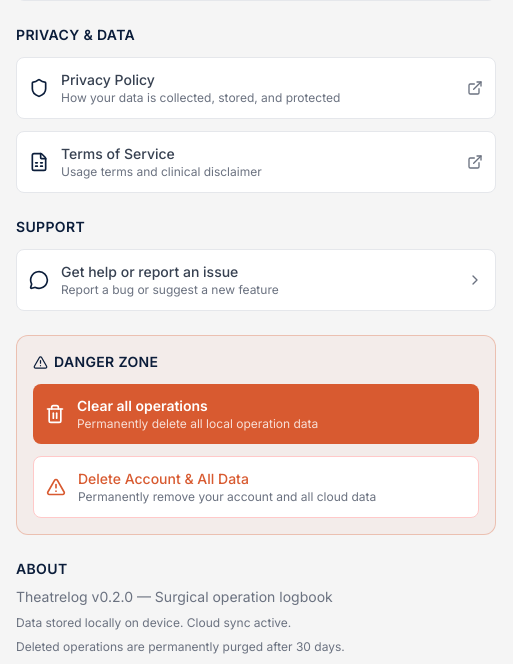
SettingsPage › shows confirm step on delete account click
(page scrolled)
Click the text "Delete Account & All Data". click: coordinates (163, 478)
box: [78, 470, 249, 487]
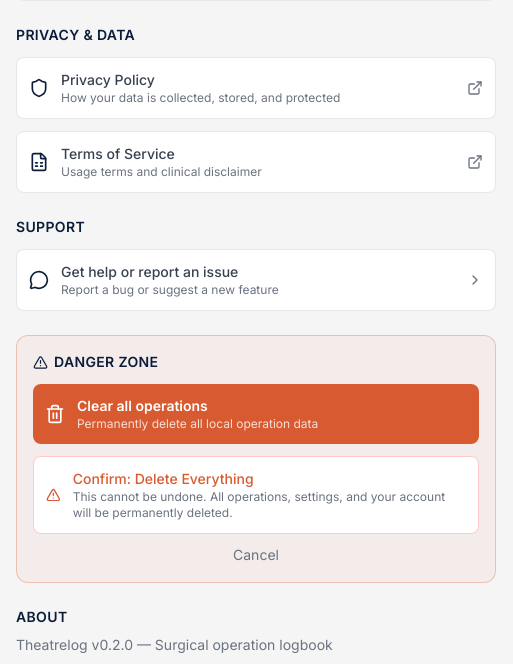
expect the text "Confirm: Delete Everything" is shown: met, box [73, 470, 254, 487]
expect the button "Cancel" is shown: met, box [33, 545, 479, 565]
